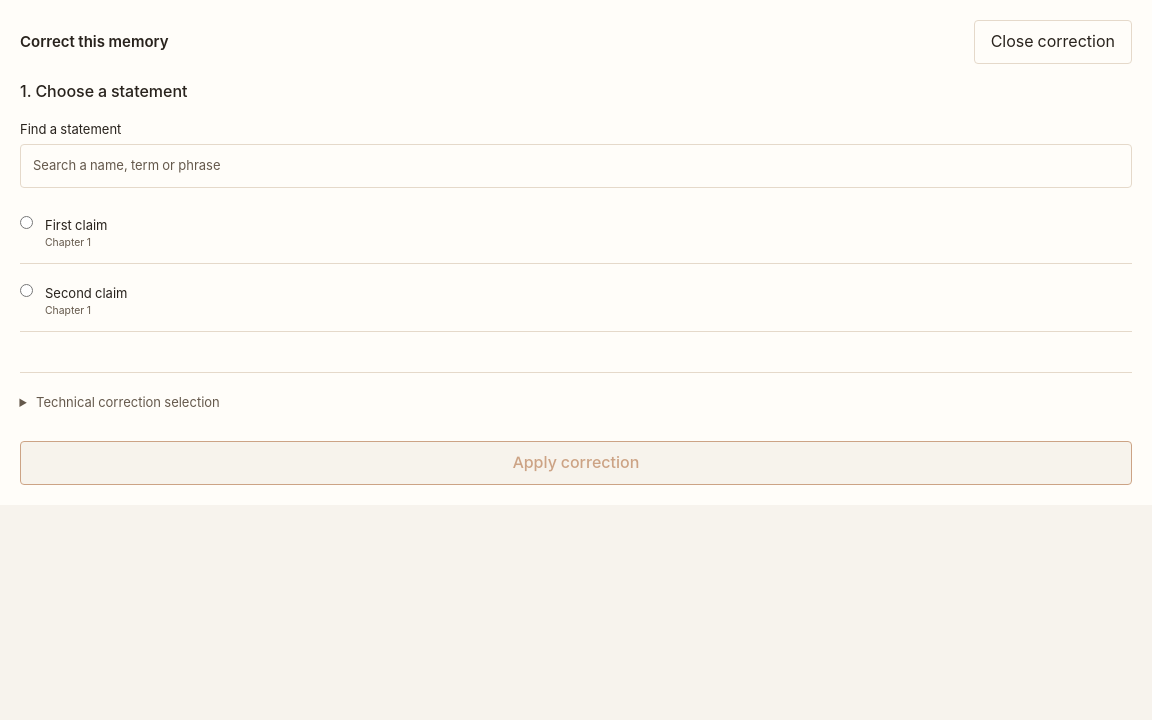
Test: tentative outcome is visible without success claim
This screenshot has width=1152, height=720.
expect the text "First claim" is shown: met, box [45,216,108,234]
Step 1. Click the radio button labelled "First claim Chapter 1" → (26, 222), box [20,216,33,228]
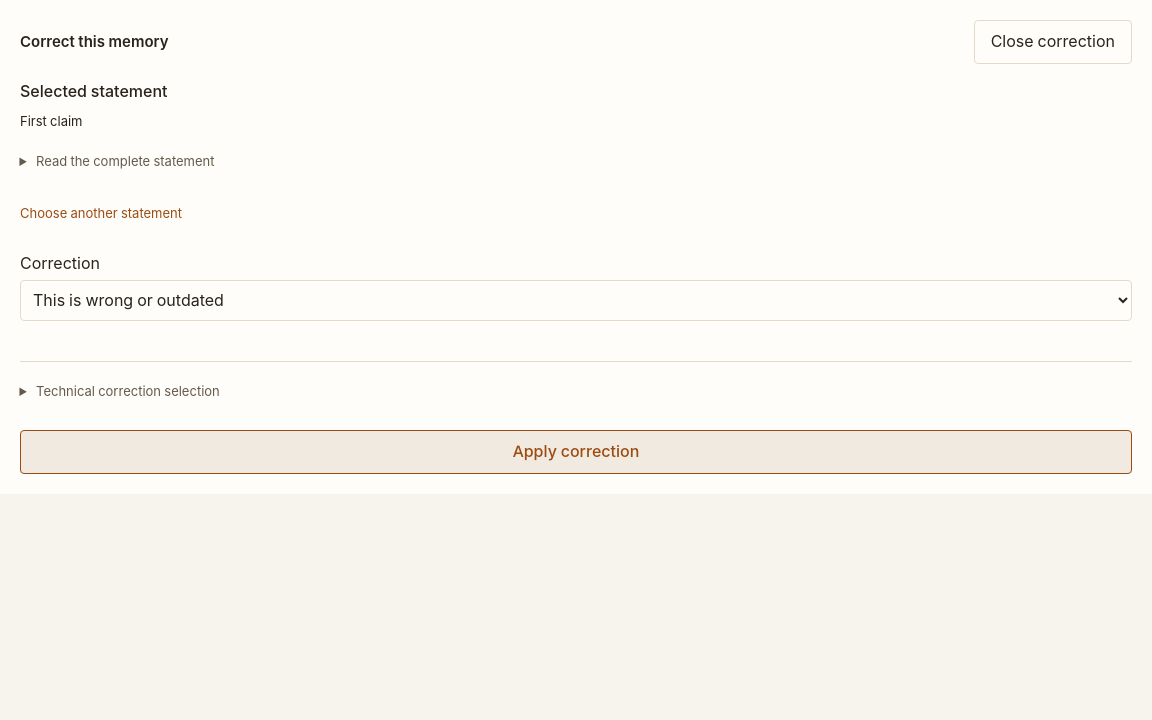
Step 2. Click the button "Apply correction" → (576, 452), box [20,430,1132,474]
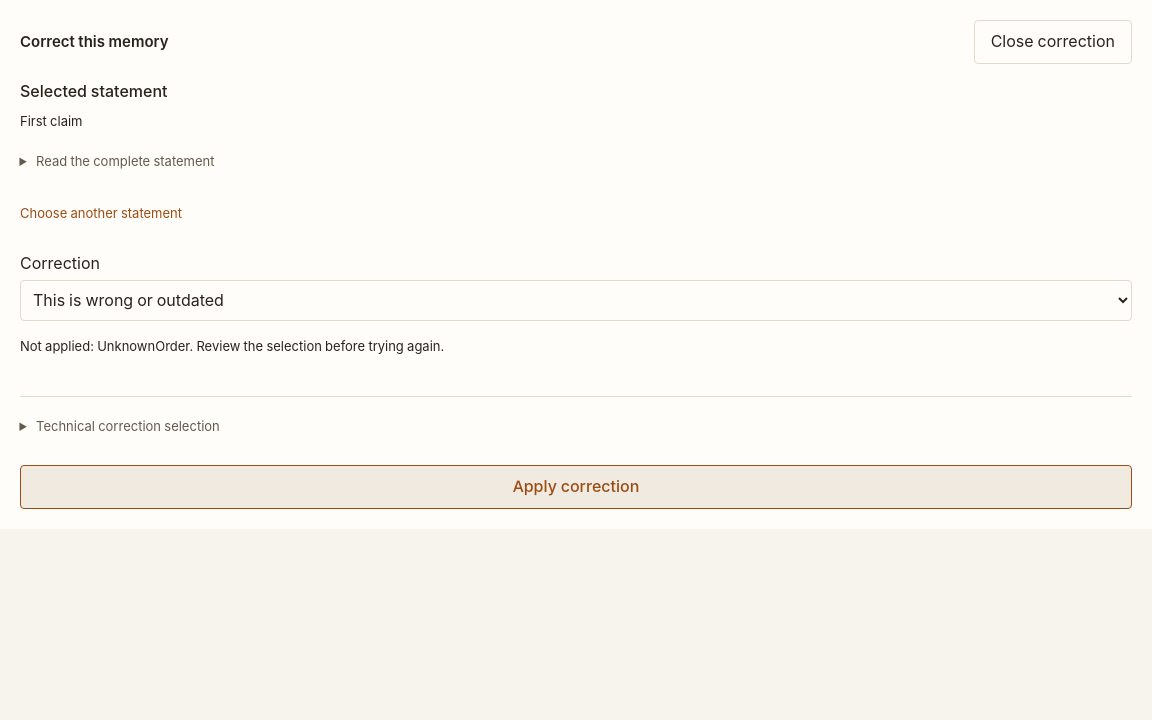
expect the message shows "Not applied": met, box [20,338,444,354]
